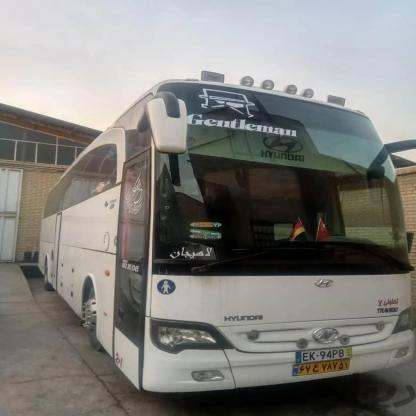Bus: (44, 68, 416, 397)
